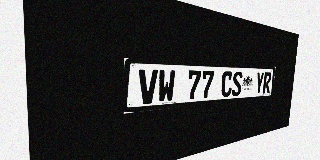7: (186, 70, 201, 100), (200, 71, 214, 99)
C: (221, 71, 233, 97)
R: (263, 72, 272, 94)
S: (231, 71, 243, 96)
V: (138, 69, 158, 105)
W: (158, 69, 176, 103)
Y: (255, 72, 264, 94)
